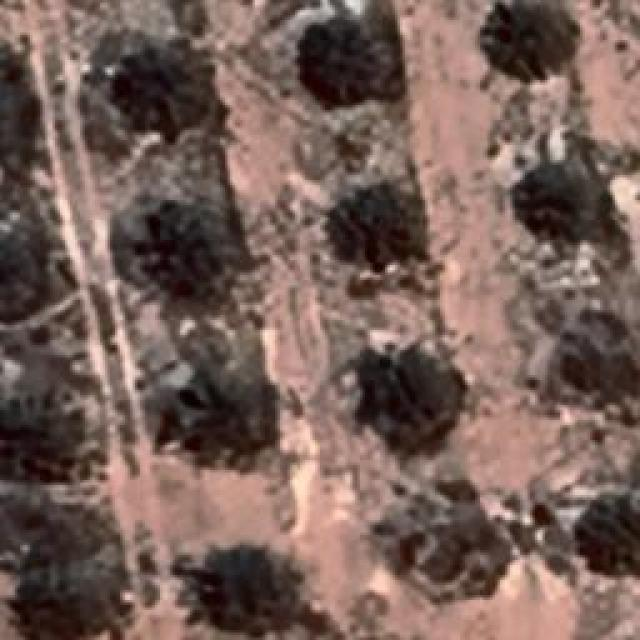PalmTree: (12, 80, 242, 600), (114, 200, 224, 300), (101, 48, 219, 132), (358, 340, 454, 442), (170, 365, 255, 445), (567, 491, 640, 581), (324, 191, 412, 259), (488, 8, 572, 78), (32, 555, 108, 630), (515, 165, 595, 235), (8, 396, 64, 489), (299, 34, 379, 96), (0, 238, 35, 332), (0, 55, 16, 169)
